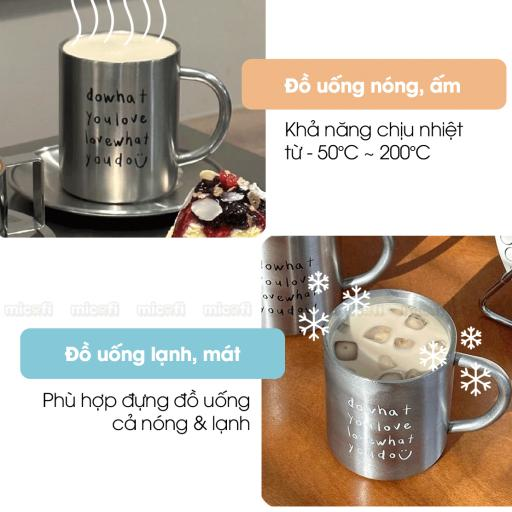cup: (59, 31, 230, 203), (323, 336, 510, 479), (371, 290, 455, 342)
